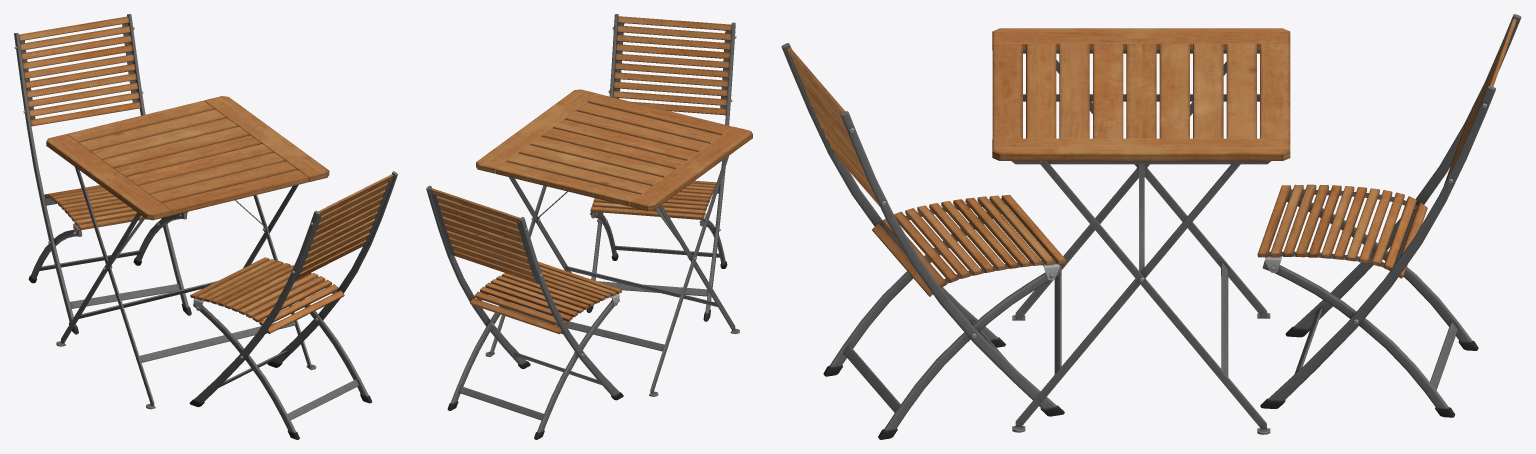
File: outdoor-table-chair-set-01-low.glb
3 views of the same model, side by side, from view 1: azimuth 30°, elevation 25°; view 2: azimuth 150°, elevation 25°; view 3: azimuth 270°, elevation 25° (orthographic). The views are drawn at different scales.
Visible parts, largest first — view 1: outdoor_table_chair_set_01_table, outdoor_table_chair_set_01_chair_02, outdoor_table_chair_set_01_chair_01; view 2: outdoor_table_chair_set_01_table, outdoor_table_chair_set_01_chair_02, outdoor_table_chair_set_01_chair_01; view 3: outdoor_table_chair_set_01_table, outdoor_table_chair_set_01_chair_01, outdoor_table_chair_set_01_chair_02.
Part boxes in pixels (<box>): outdoor_table_chair_set_01_table: <box>46,96,329,409</box>; outdoor_table_chair_set_01_chair_02: <box>14,14,191,334</box>; outdoor_table_chair_set_01_chair_01: <box>189,171,397,439</box>; outdoor_table_chair_set_01_table: <box>476,89,752,396</box>; outdoor_table_chair_set_01_chair_02: <box>426,185,623,439</box>; outdoor_table_chair_set_01_chair_01: <box>586,14,736,321</box>; outdoor_table_chair_set_01_table: <box>992,28,1290,434</box>; outdoor_table_chair_set_01_chair_01: <box>781,43,1066,439</box>; outdoor_table_chair_set_01_chair_02: <box>1257,14,1521,417</box>.
Bounding box in the file's own units: 0.7412 × 0.8585 × 1.72.
2 materials, 2 textured.
